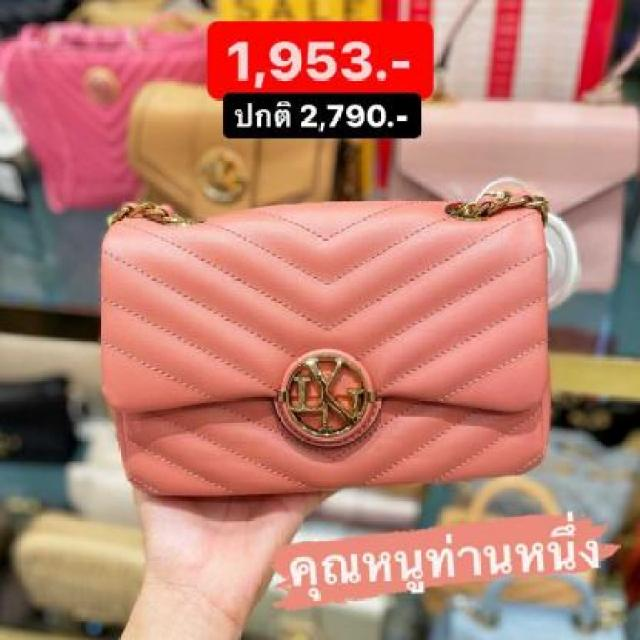Bag: (65, 167, 582, 516)
